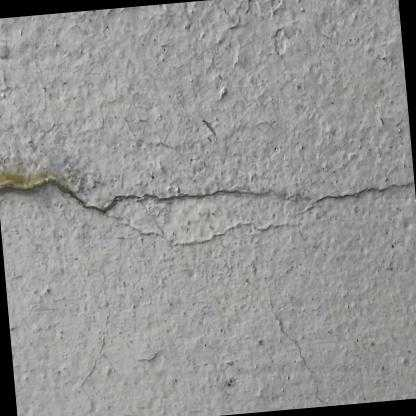crack: (0, 178, 268, 214), (263, 293, 335, 407), (303, 180, 415, 211)
